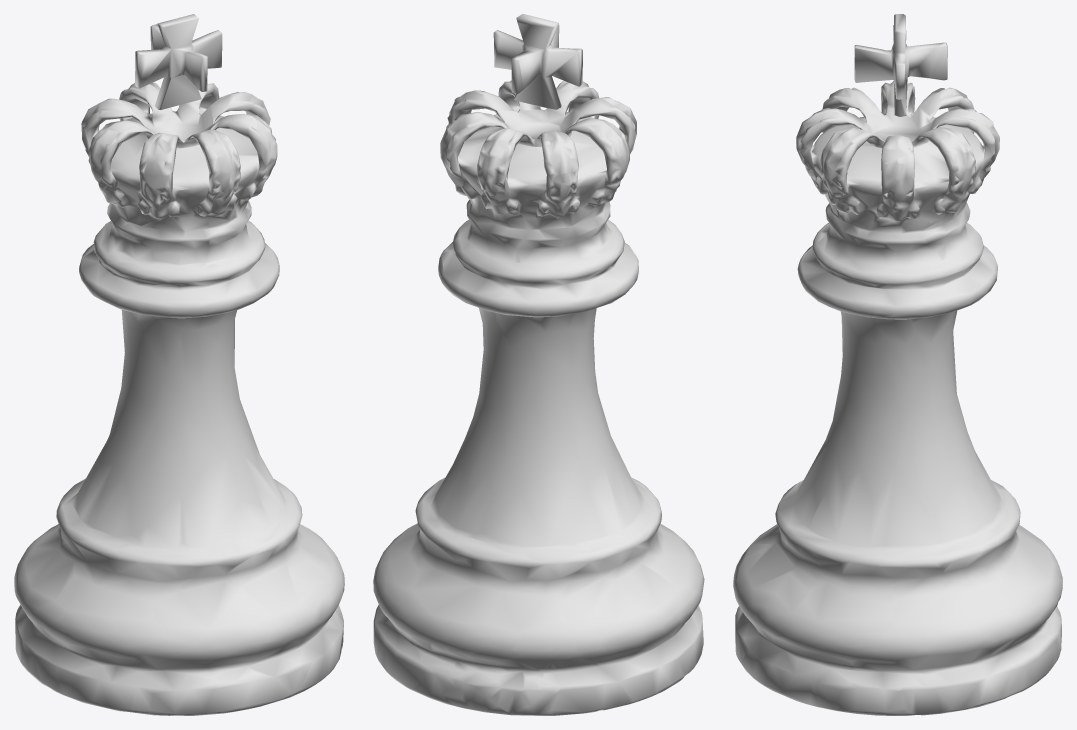
Rendered from king_low.glb.
The picture shows the model from 3 angles, left to right: view 1: azimuth 30°, elevation 25°; view 2: azimuth 150°, elevation 25°; view 3: azimuth 270°, elevation 25°; orthographic projection.
Parts seen in each view (by area): view 1: world; view 2: world; view 3: world.
Boxes of the visible parts, box(x1,y1,x2,y2) form: world: box(14, 14, 344, 715); world: box(373, 14, 704, 715); world: box(733, 14, 1062, 715).
Size of the model in its own units: 0.4756 by 1 by 0.4768.
Materials: 1 (1 with a texture image).
